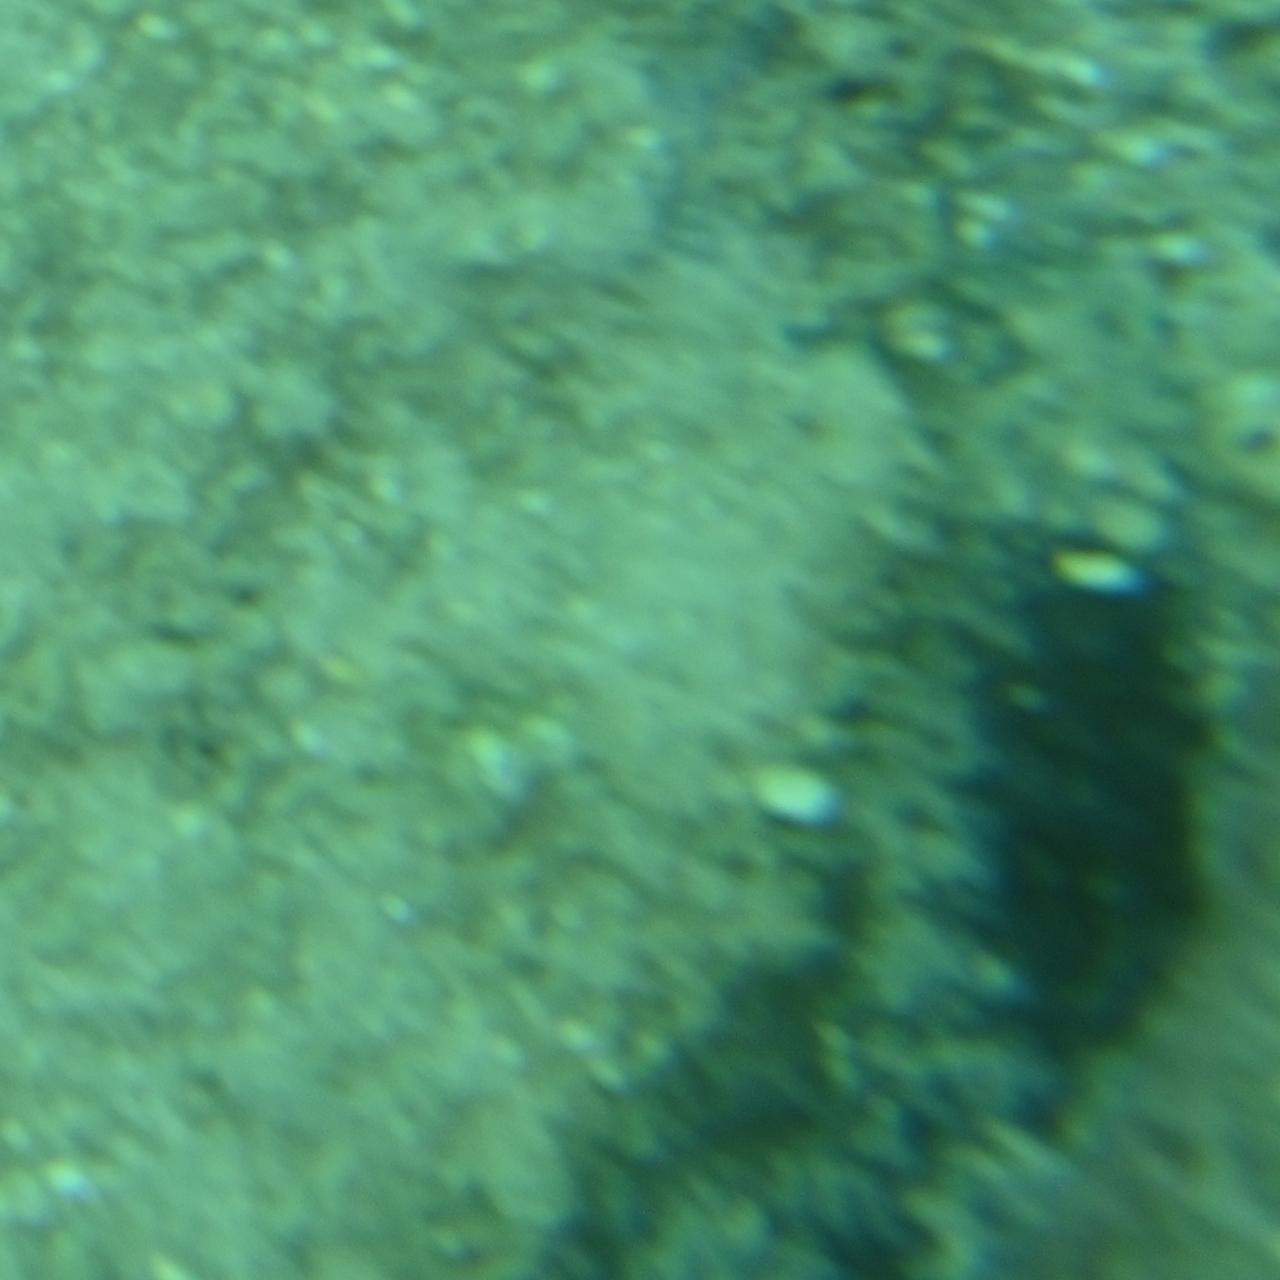Holothuria tubulosa: (524, 481, 1194, 1279)
